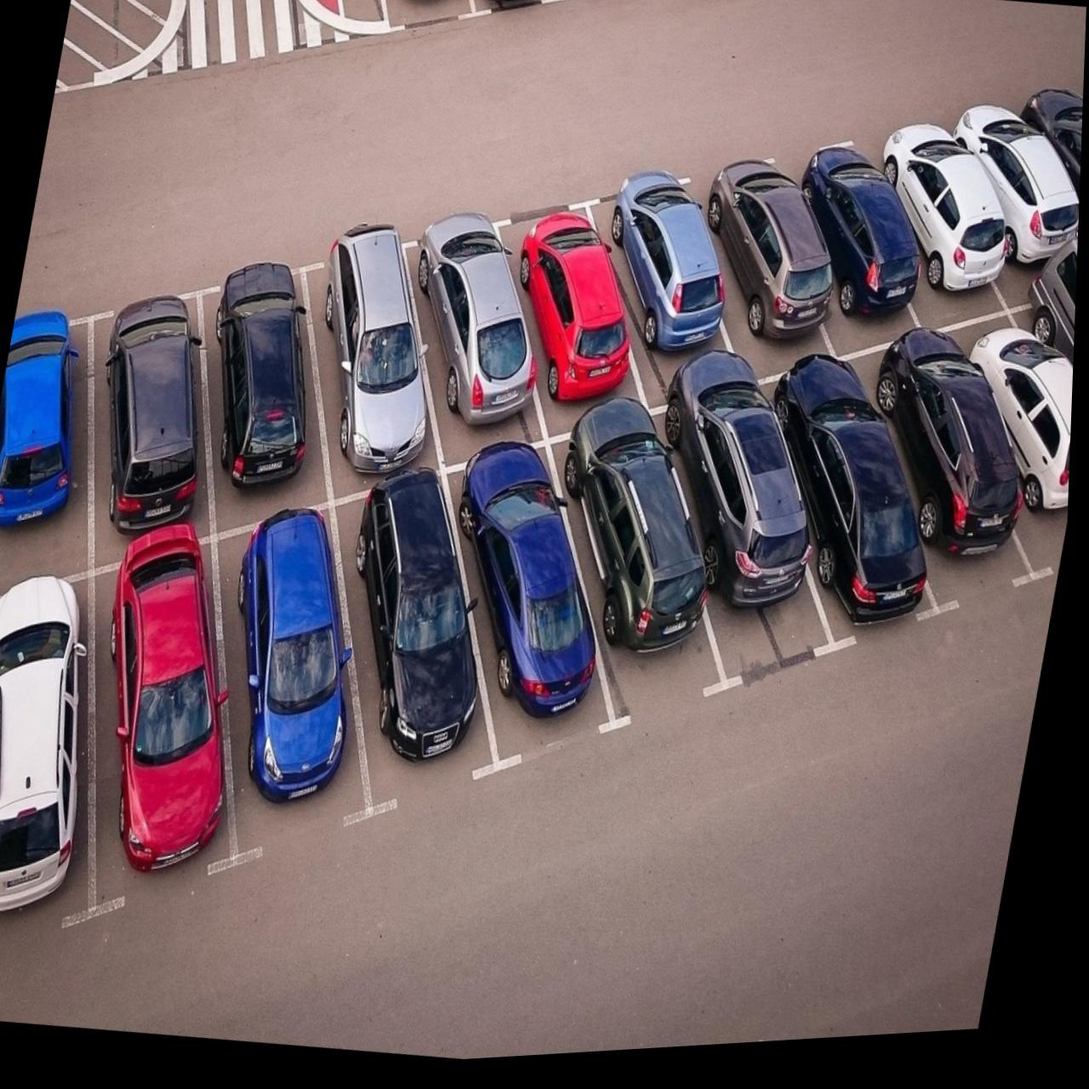cars: (412, 426, 647, 760), (51, 537, 268, 894), (301, 450, 519, 792), (733, 349, 965, 655), (829, 318, 1053, 620), (174, 512, 382, 837), (644, 377, 857, 687), (537, 401, 743, 713), (75, 271, 226, 564), (182, 242, 337, 527), (0, 555, 104, 976), (293, 224, 444, 489), (394, 191, 543, 456), (932, 301, 1075, 563), (493, 190, 640, 423), (591, 161, 733, 400), (0, 289, 113, 589), (694, 153, 850, 368), (861, 97, 1011, 310), (784, 125, 922, 348), (951, 90, 1083, 299), (1009, 66, 1084, 252)
